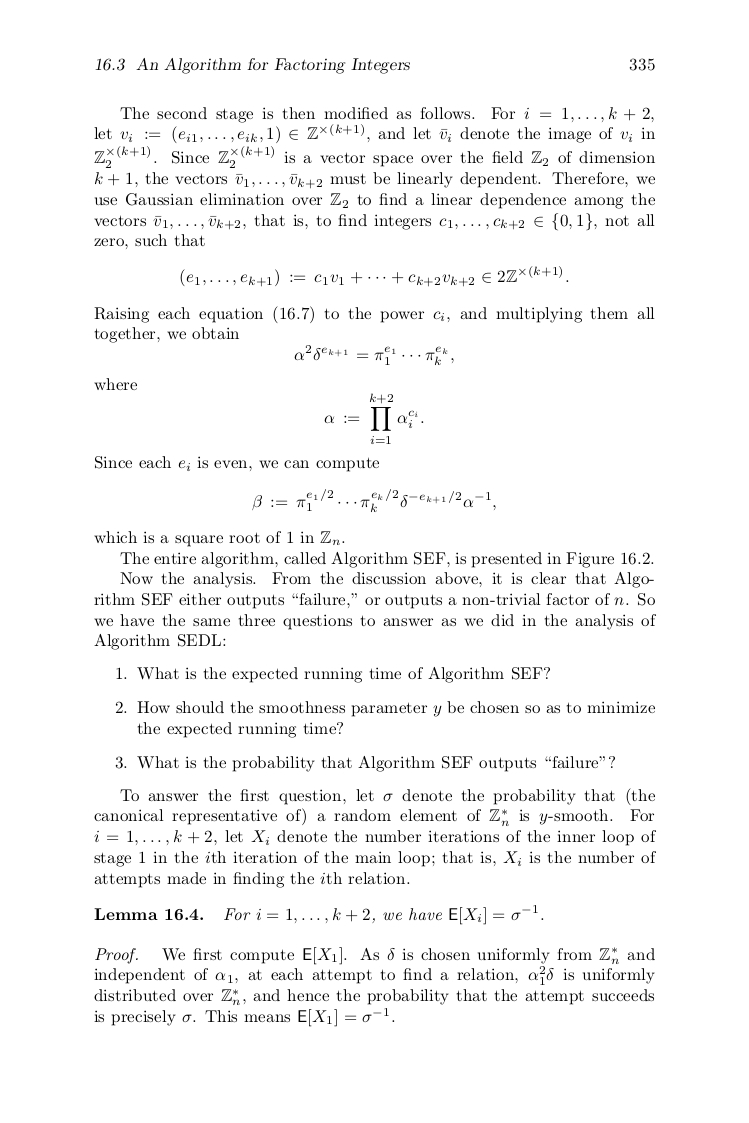formula: (180, 265, 568, 287), (252, 488, 495, 512), (324, 393, 423, 443), (294, 344, 453, 365)
